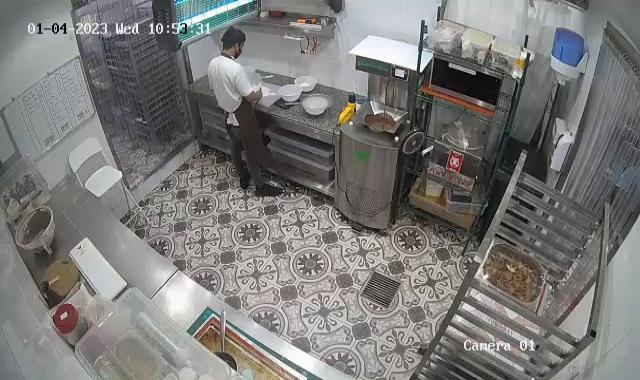no_hairnet: (218, 26, 246, 48)
